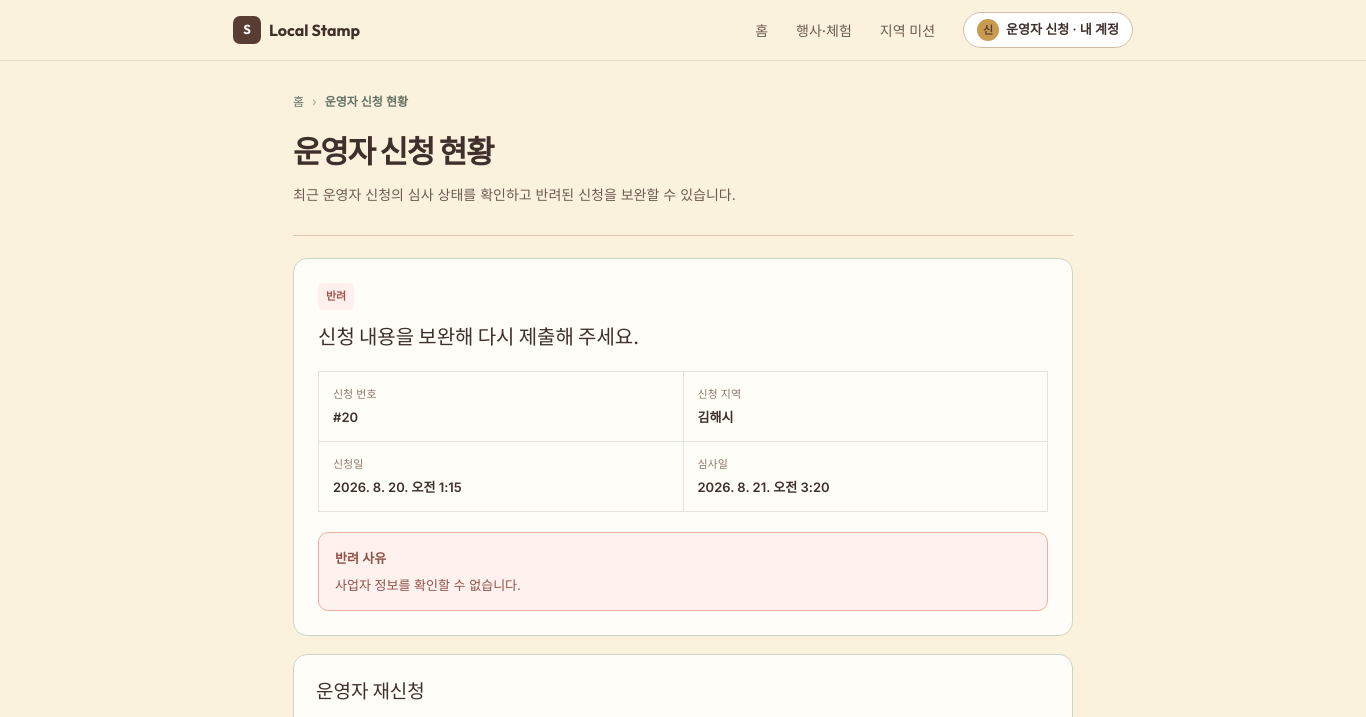
Test case: operator application status integration › shows an applicant-only menu and allows reapplication only after rejection
The width and height of the screenshot is (1366, 717).
Expected: the heading "운영자 신청 현황" is shown, 293,132 -> 493,171
Expected: the text "사업자 정보를 확인할 수 없습니다." is shown, 335,577 -> 521,593
Step 1. Click the button "신 운영자 신청 · 내 계정" → [1048, 30], box 963,12 -> 1133,48
(page scrolled)
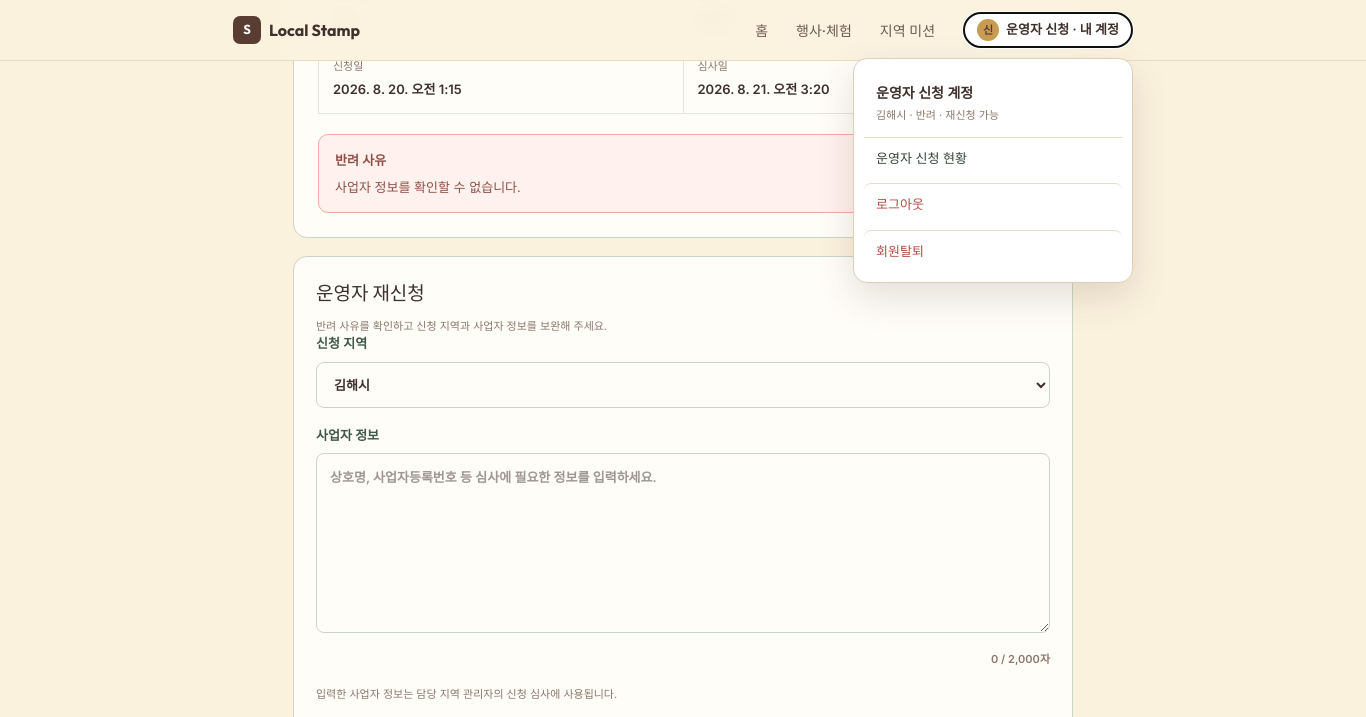
Now the text "운영자 신청 계정" is shown, box 876,84 -> 973,101
Now the link "운영자 신청 현황" is shown, box 876,150 -> 967,166
Step 2. Select "부산시" in the dropdown labelled "신청 지역" → [683, 385], box 316,362 -> 1050,408
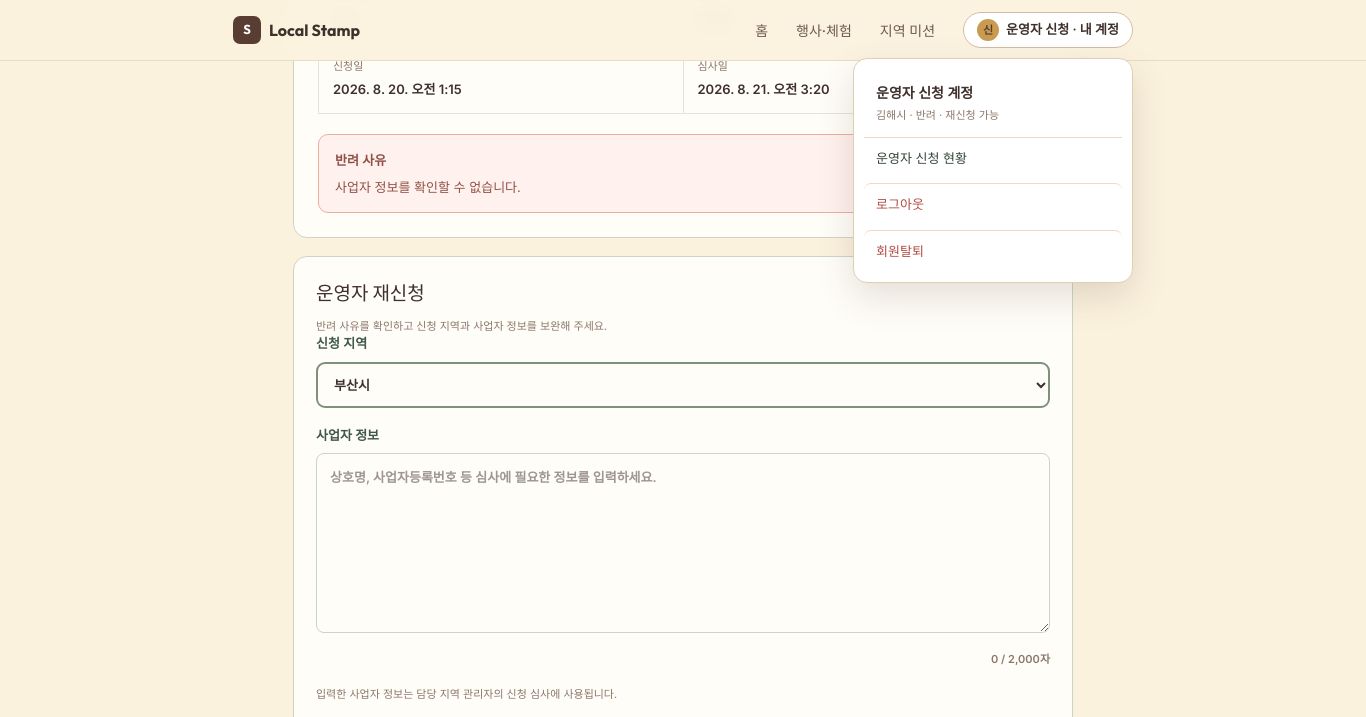
Step 3. Type "상호명 지역행사, 사업자등록번호 123-45-67890" into the text box labelled "사업자 정보" → [683, 543], box 316,453 -> 1050,633
(page scrolled)
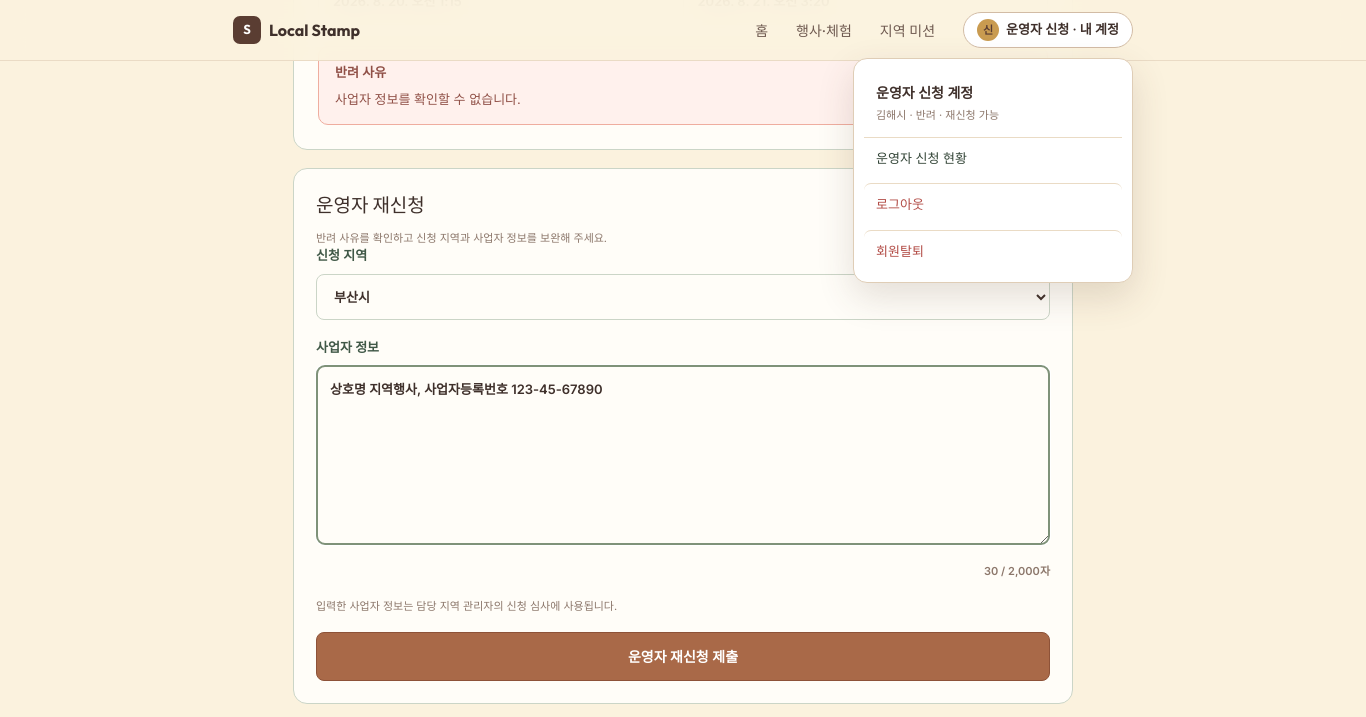
Step 4. Click the button "운영자 재신청 제출" → [683, 657], box 316,632 -> 1050,681
(page scrolled)
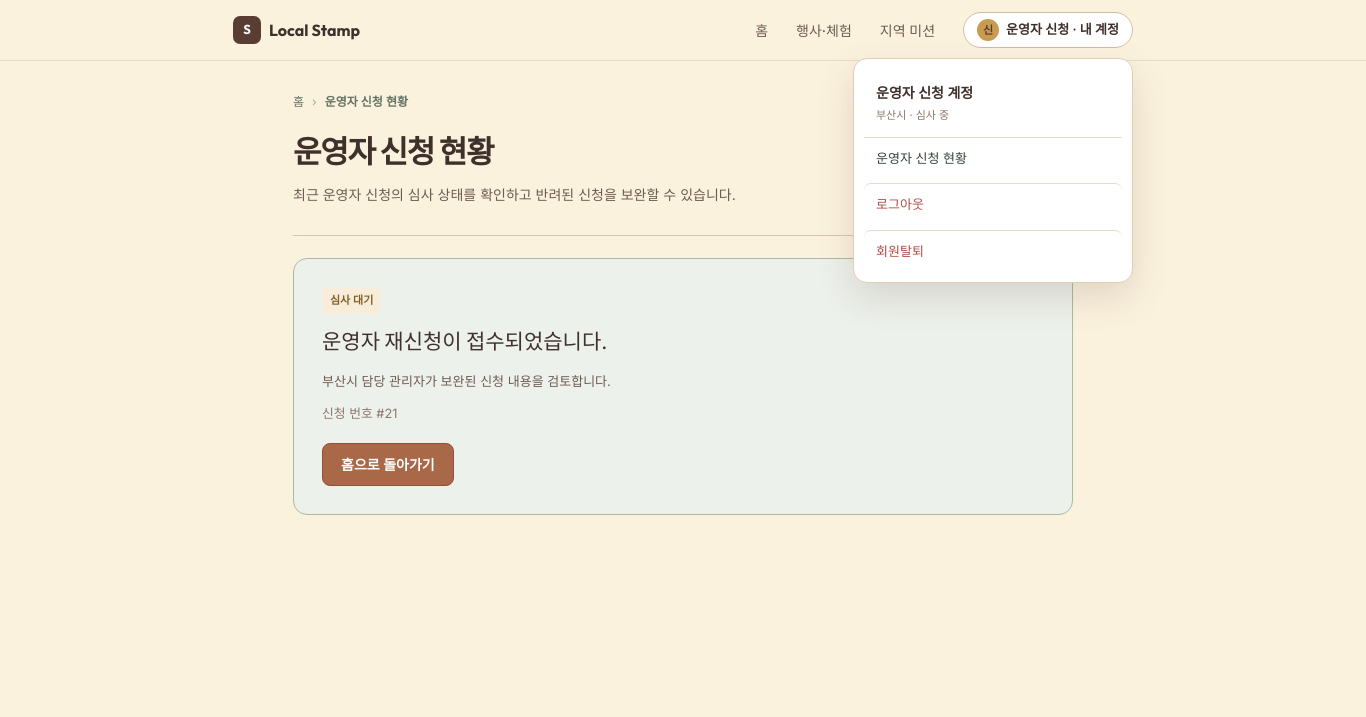
Now the heading "운영자 재신청이 접수되었습니다." is shown, box 322,326 -> 607,358
